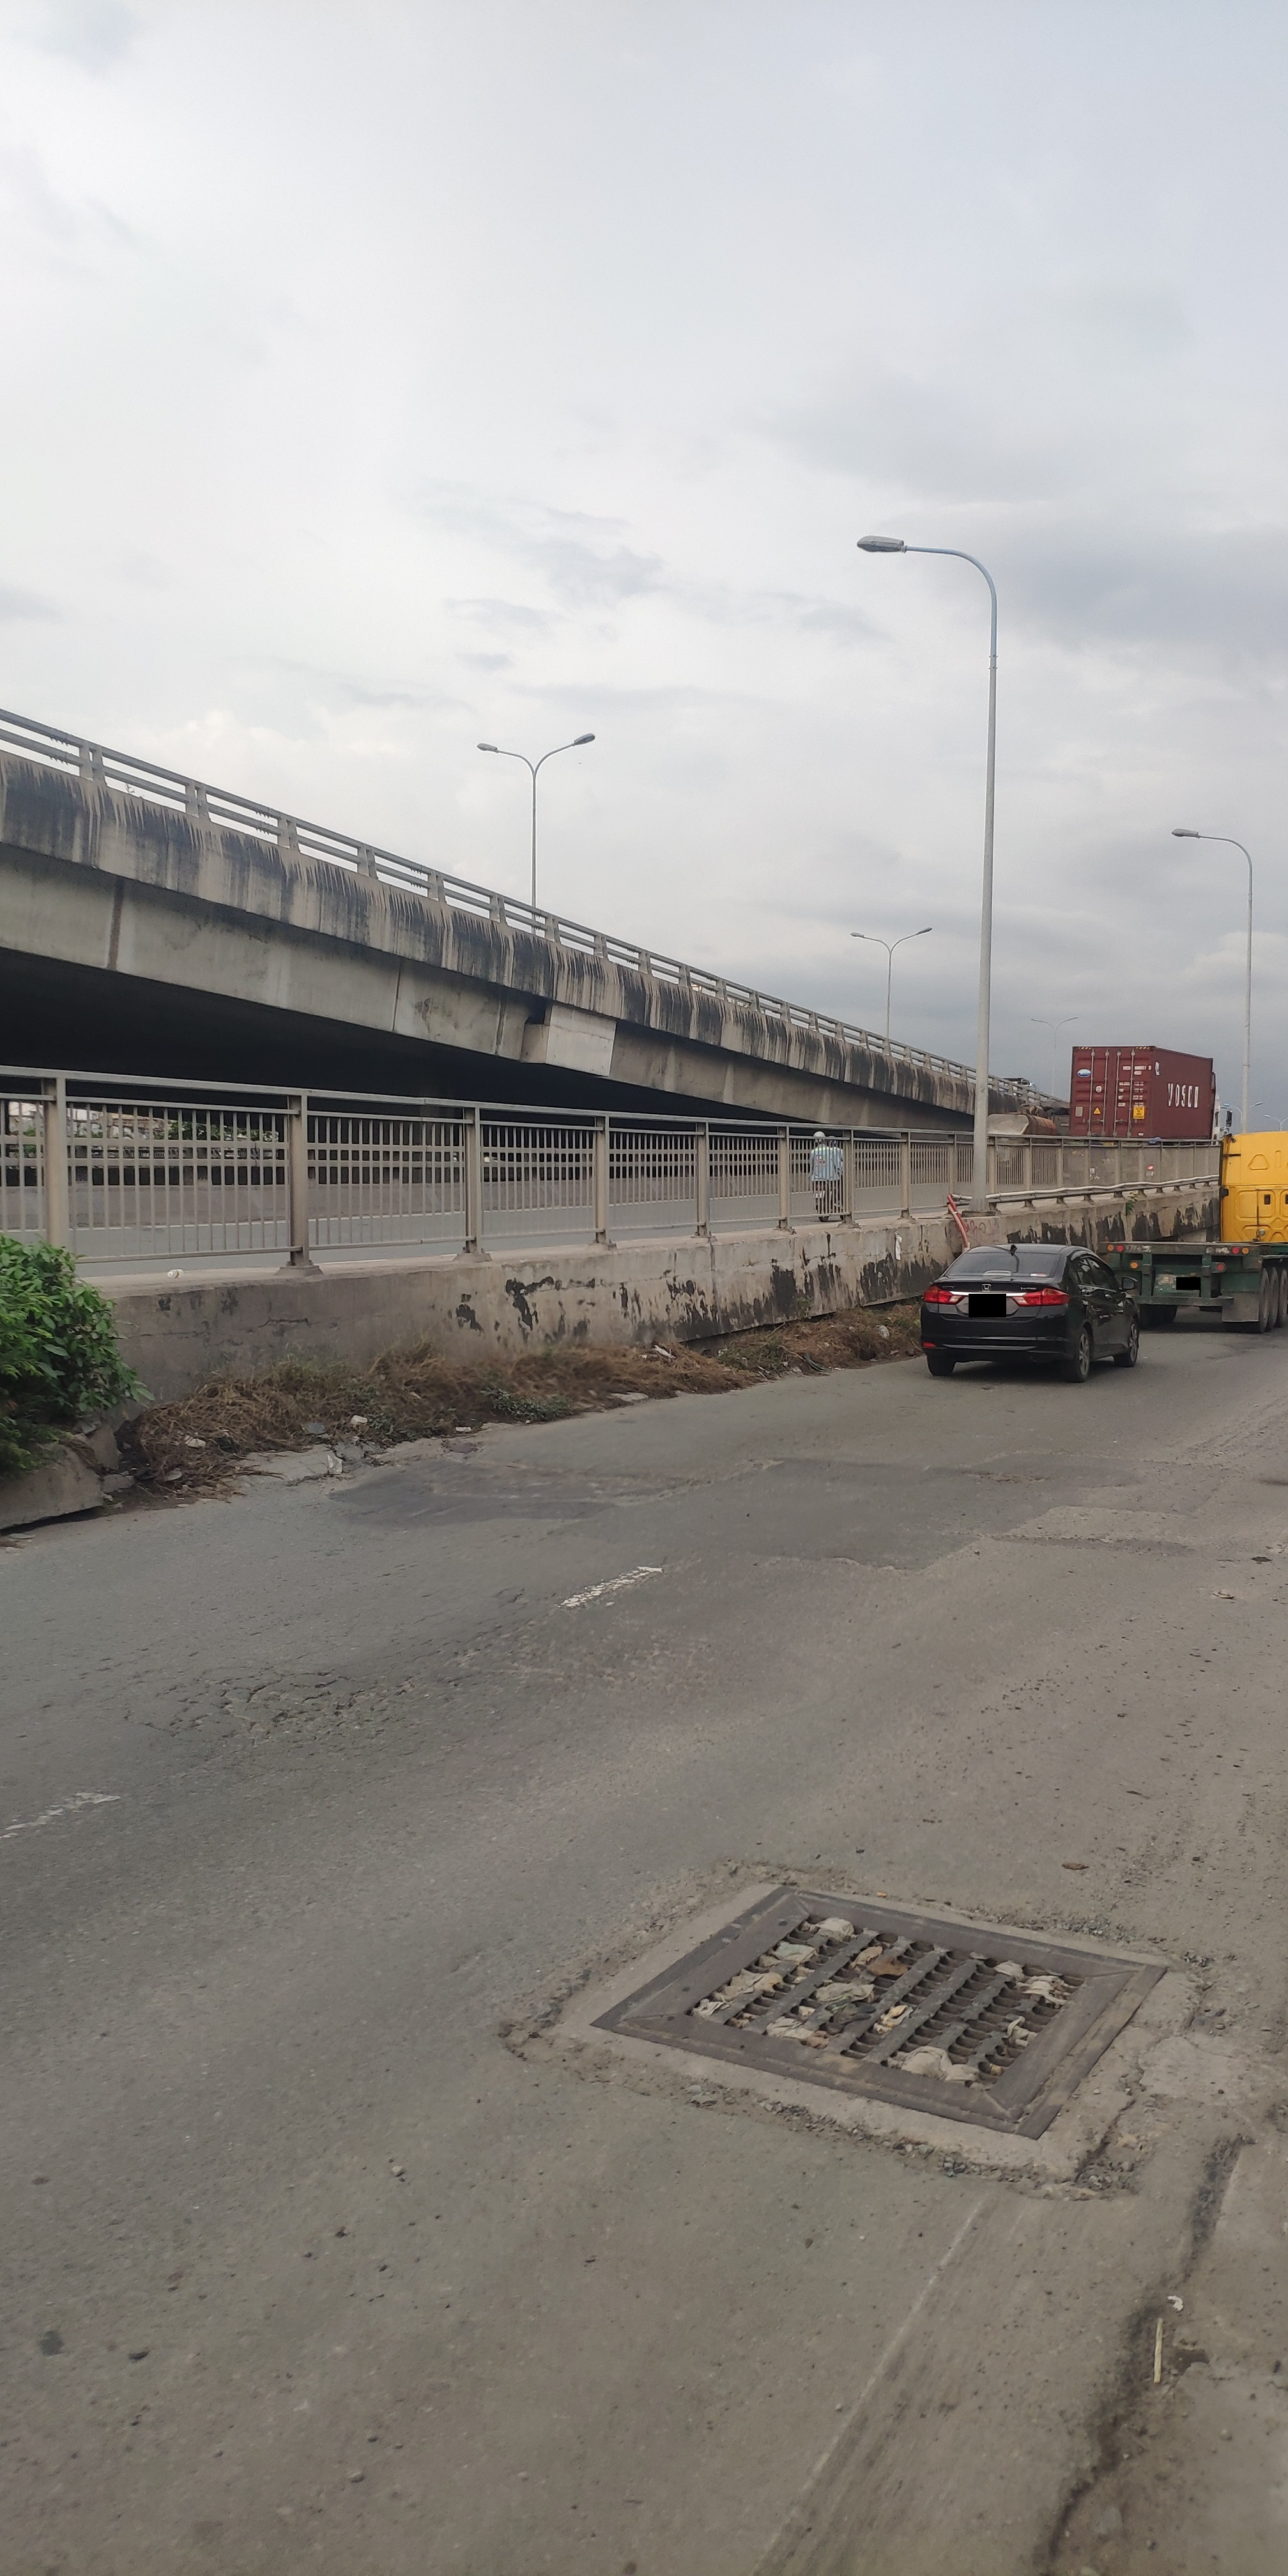hole: (140, 1626, 537, 1794), (353, 1433, 698, 1533), (948, 1462, 1055, 1490)
